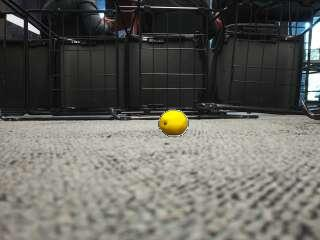lemon: (160, 111, 188, 136)
